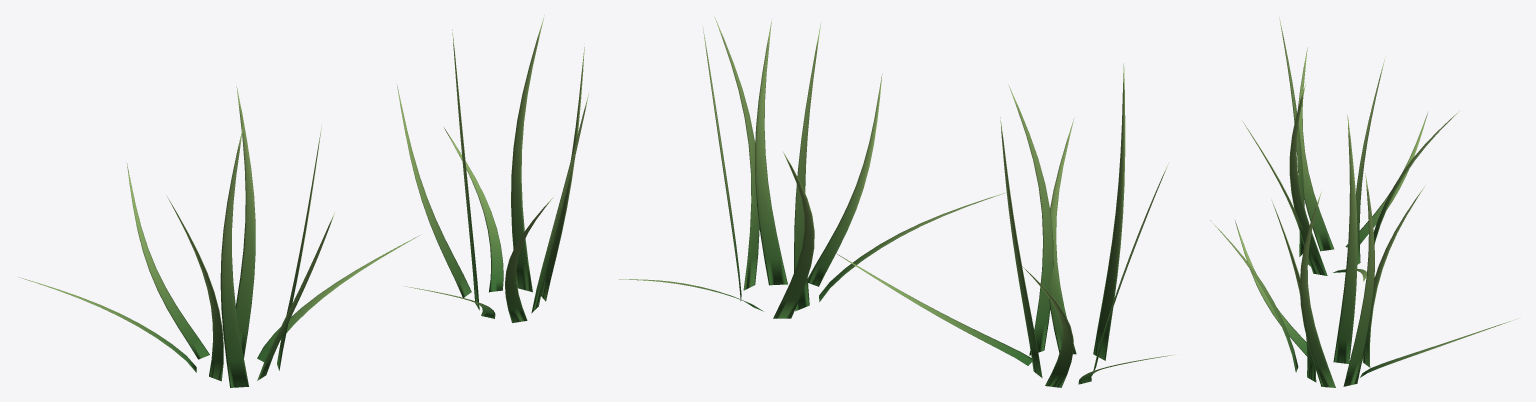
Rendered from grass-clumps.glb.
The picture shows the model from 3 angles, left to right: view 1: azimuth 30°, elevation 25°; view 2: azimuth 150°, elevation 25°; view 3: azimuth 270°, elevation 25°; orthographic projection. The views are drawn at different scales.
Visible parts, largest first — view 1: GrassClump_A, GrassClump_B; view 2: GrassClump_B, GrassClump_A; view 3: GrassClump_B, GrassClump_A.
Boxes of the visible parts, x1,y1,x2,y2 form: GrassClump_A: [19, 86, 419, 387]; GrassClump_B: [397, 15, 588, 322]; GrassClump_B: [619, 17, 1004, 318]; GrassClump_A: [836, 63, 1175, 387]; GrassClump_B: [1210, 115, 1516, 387]; GrassClump_A: [1242, 17, 1459, 281].
Bounding box in the file's own units: 1.58 × 0.84 × 0.981.
